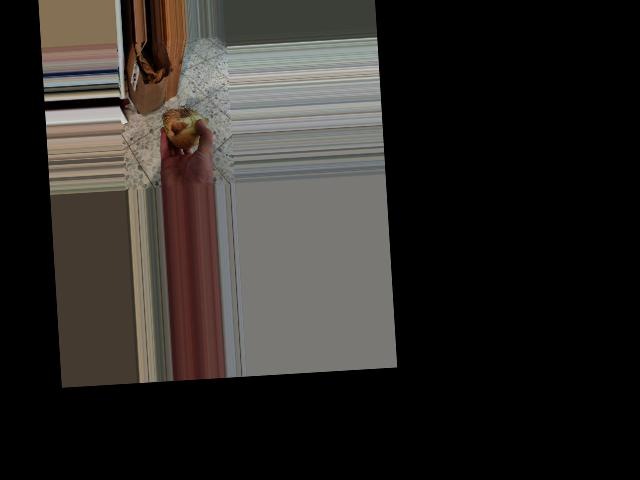onion: (160, 105, 210, 153)
